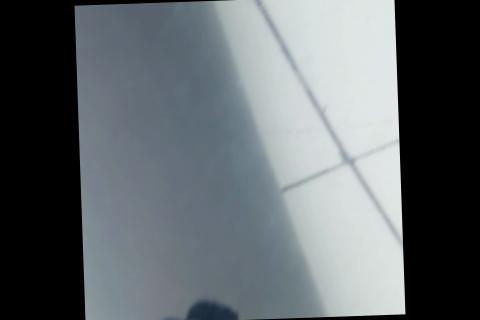kebocoran: (149, 295, 241, 320)
